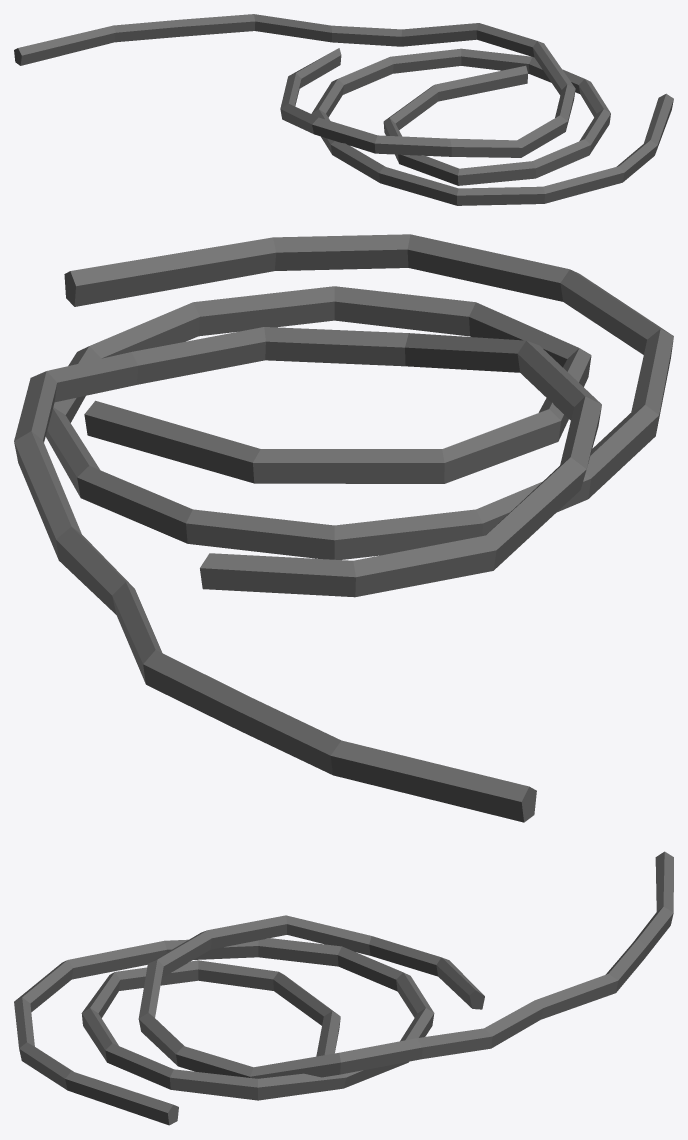
The model's file is SM_Gen_Prop_Rope_02.glb.
3 views of the same model, one above another, from view 1: azimuth 30°, elevation 25°; view 2: azimuth 150°, elevation 25°; view 3: azimuth 270°, elevation 25° (orthographic). The views are drawn at different scales.
Parts seen in each view (by area): view 1: SM_Gen_Prop_Rope_02; view 2: SM_Gen_Prop_Rope_02; view 3: SM_Gen_Prop_Rope_02.
Part boxes in pixels (x1=…): SM_Gen_Prop_Rope_02: x1=14, y1=14, x2=673, y2=205; SM_Gen_Prop_Rope_02: x1=14, y1=234, x2=673, y2=822; SM_Gen_Prop_Rope_02: x1=14, y1=851, x2=673, y2=1125.
Bounding box in the file's own units: 1.72 × 0.1158 × 1.87.
Materials: 1 (1 with a texture image).
